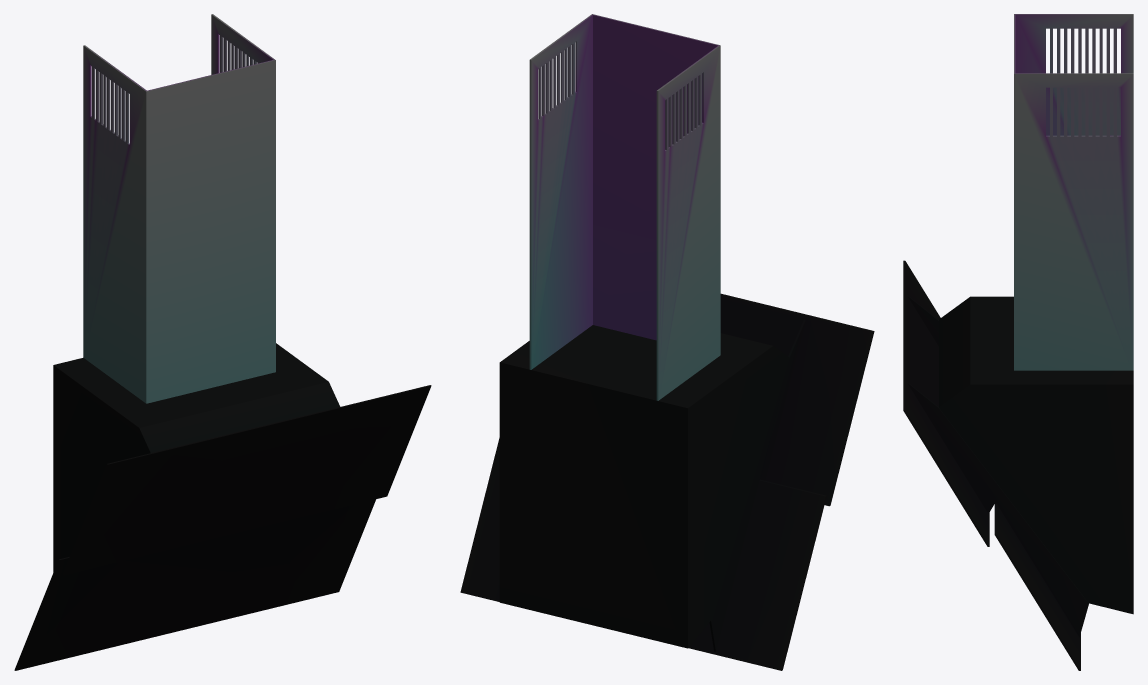
The picture shows the model from 3 angles, left to right: view 1: azimuth 30°, elevation 25°; view 2: azimuth 150°, elevation 25°; view 3: azimuth 270°, elevation 25°; orthographic projection. The views are drawn at different scales.
Parts seen in each view (by area): view 1: channel, upper_sheet, housing; view 2: housing, channel, upper_sheet; view 3: channel, housing, upper_sheet.
Part boxes in pixels (bbox=[...]): channel: bbox=[83, 14, 275, 403]; upper_sheet: bbox=[14, 385, 431, 670]; housing: bbox=[53, 343, 340, 572]; housing: bbox=[499, 325, 789, 648]; channel: bbox=[529, 14, 720, 400]; upper_sheet: bbox=[460, 293, 874, 670]; channel: bbox=[1014, 14, 1133, 370]; housing: bbox=[939, 296, 1133, 614]; upper_sheet: bbox=[903, 260, 1088, 670].
Size of the model in its own units: 0.35 by 0.6 by 0.227.
